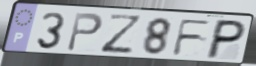3: (35, 11, 67, 50)
8: (141, 16, 174, 57)
F: (170, 18, 214, 58)
P: (203, 18, 249, 61), (65, 11, 105, 53)
Z: (98, 13, 145, 55)
